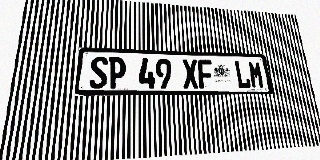4: (139, 58, 156, 88)
9: (156, 58, 172, 88)
F: (197, 60, 214, 88)
L: (234, 61, 251, 88)
M: (248, 61, 265, 88)
P: (108, 57, 126, 88)
S: (89, 56, 108, 88)
X: (182, 59, 199, 88)
